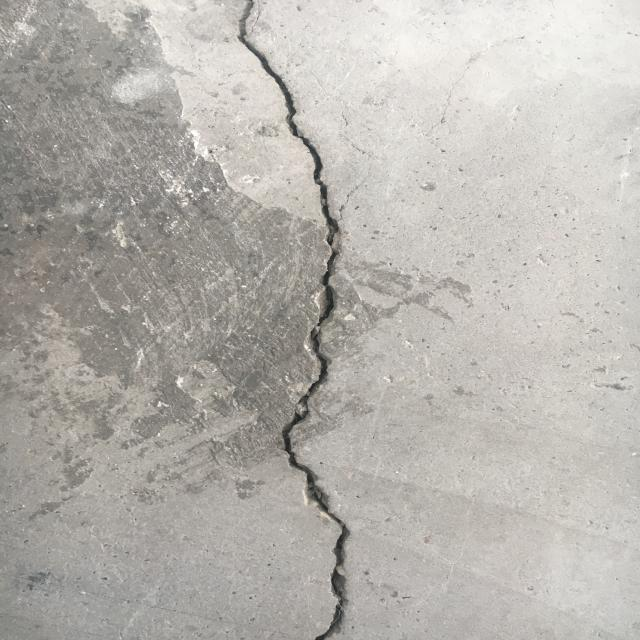Rachadura: (239, 0, 348, 640)
